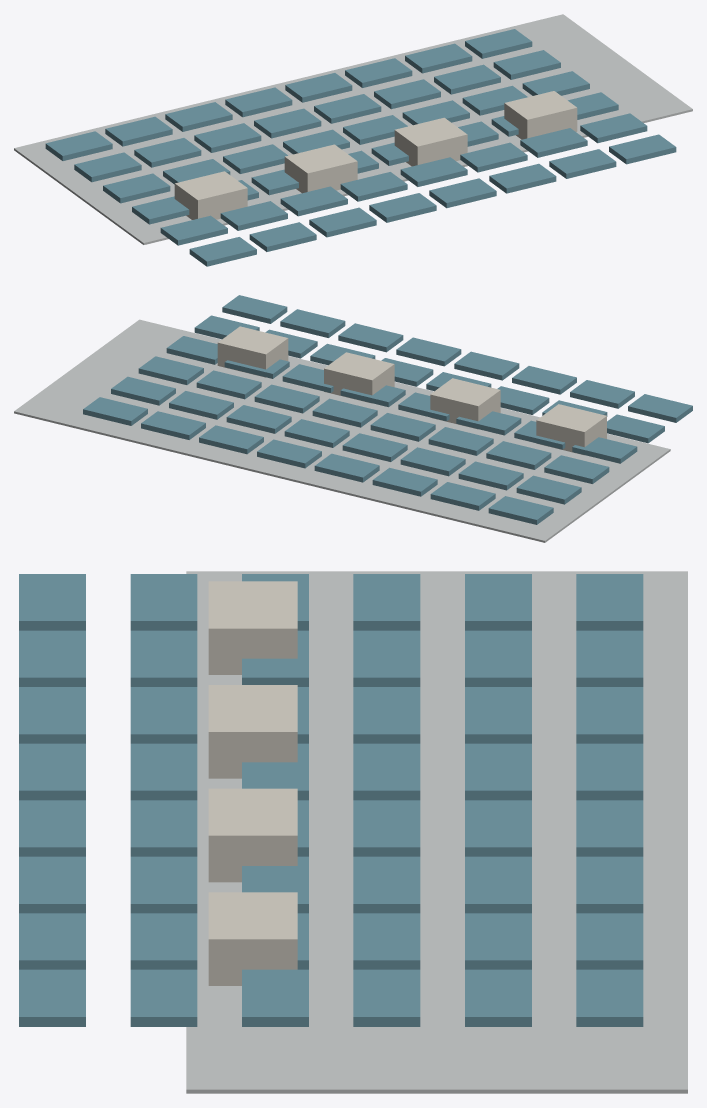
Rendered from source.glb.
3 views of the same model, one above another, from view 1: azimuth 30°, elevation 25°; view 2: azimuth 150°, elevation 25°; view 3: azimuth 270°, elevation 25° (orthographic). The views are drawn at different scales.
Parts seen in each view (by area): view 1: worldgen; view 2: worldgen; view 3: worldgen.
Boxes of the visible parts, bbox=[...] form: worldgen: bbox=[14, 14, 692, 266]; worldgen: bbox=[14, 295, 692, 542]; worldgen: bbox=[19, 571, 687, 1093].
Bounding box in the file's own units: 110 × 5 × 60.
